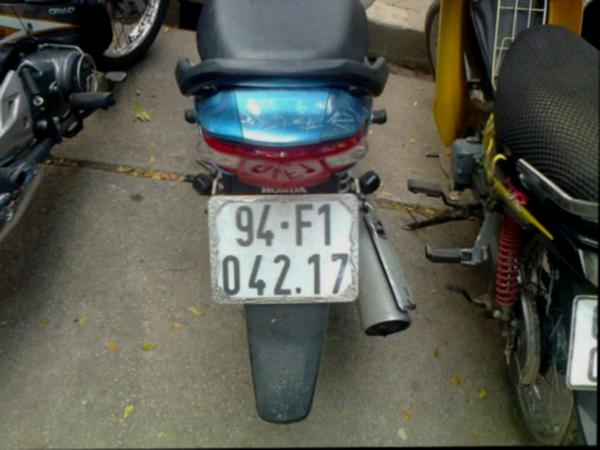License_Plate: (213, 195, 359, 299)
